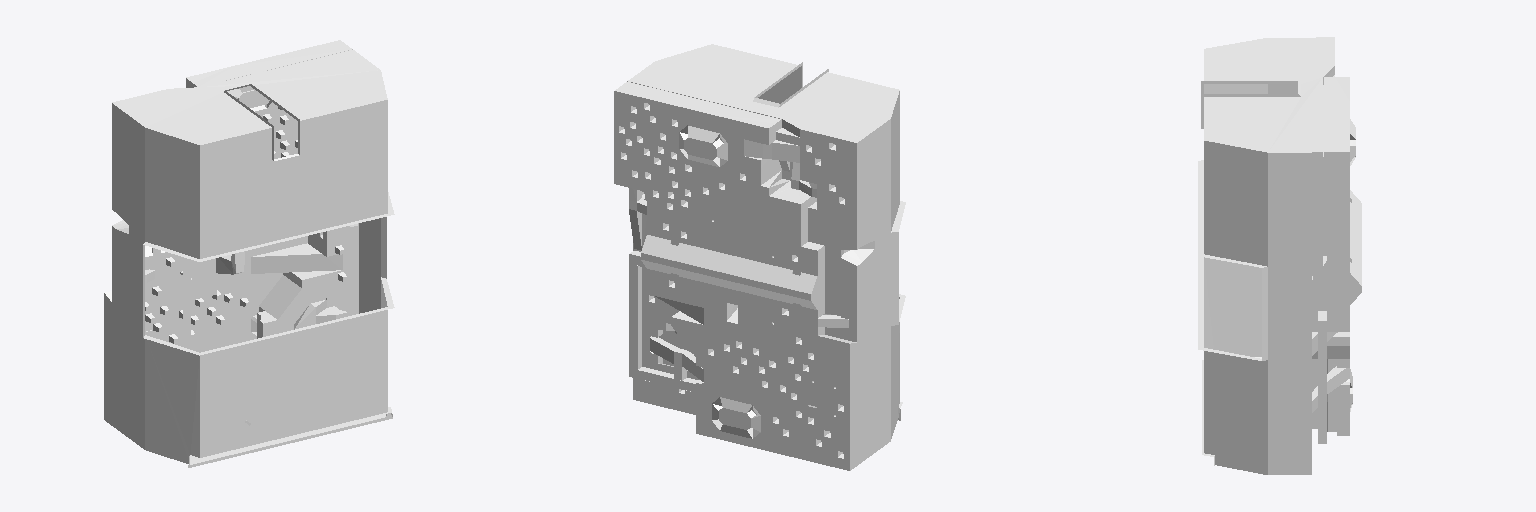
Rendered from hangemhigh_Lightmap.obj.
3 renders of one model, left to right at view 1: azimuth 30°, elevation 25°; view 2: azimuth 150°, elevation 25°; view 3: azimuth 270°, elevation 25°, orthographic.
Parts seen in each view (by area): view 1: hangemhigh_Lightmap_1, hangemhigh_Lightmap_0; view 2: hangemhigh_Lightmap_0, hangemhigh_Lightmap_1; view 3: hangemhigh_Lightmap_1, hangemhigh_Lightmap_0.
Part boxes in pixels (x1,y1,x2,y2): hangemhigh_Lightmap_1: (104,40,394,467); hangemhigh_Lightmap_0: (112,50,358,425); hangemhigh_Lightmap_0: (614,81,874,470); hangemhigh_Lightmap_1: (615,44,905,470); hangemhigh_Lightmap_1: (1198,37,1361,474); hangemhigh_Lightmap_0: (1255,134,1355,443).
Size of the model in its own units: 2998 by 3865 by 1744.